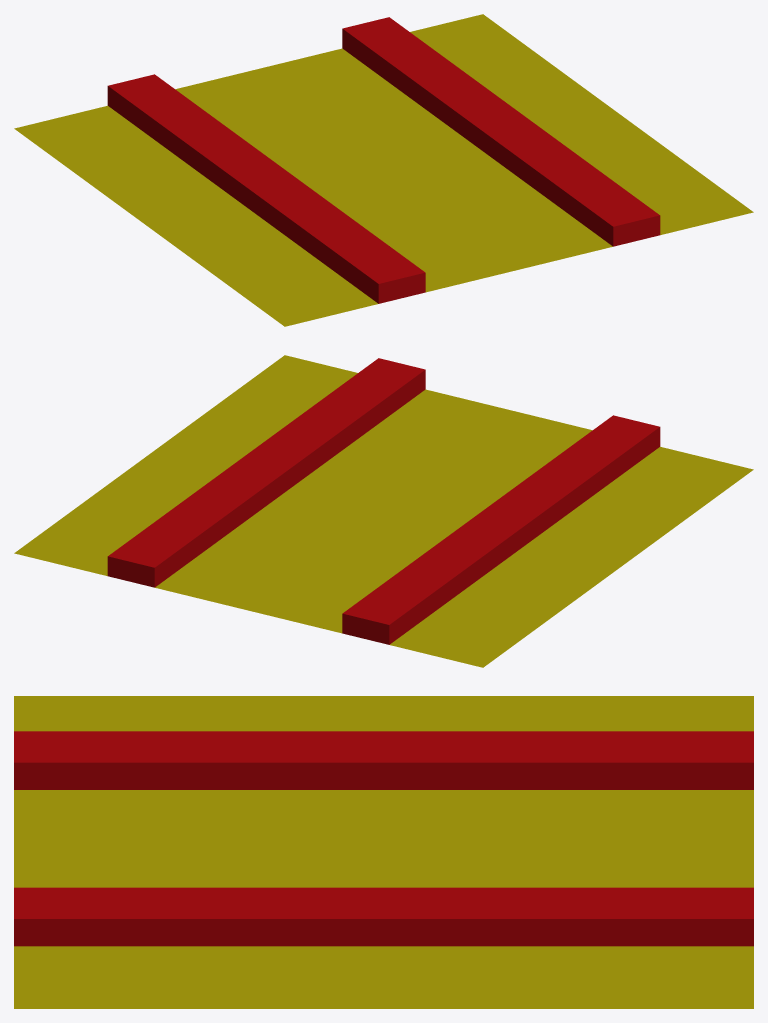
File: Ceiling.fbx
The picture shows the model from 3 angles, top to bottom: view 1: azimuth 30°, elevation 25°; view 2: azimuth 150°, elevation 25°; view 3: azimuth 270°, elevation 25°; orthographic projection. The views are drawn at different scales.
Visible parts, largest first — view 1: pPlane1; view 2: pPlane1; view 3: pPlane1.
Part boxes in pixels (x1,y1,x2,y2): pPlane1: (14, 14, 753, 326); pPlane1: (14, 355, 753, 667); pPlane1: (14, 696, 753, 1008).
Size of the model in its own units: 24.05 by 0.9767 by 24.05.
